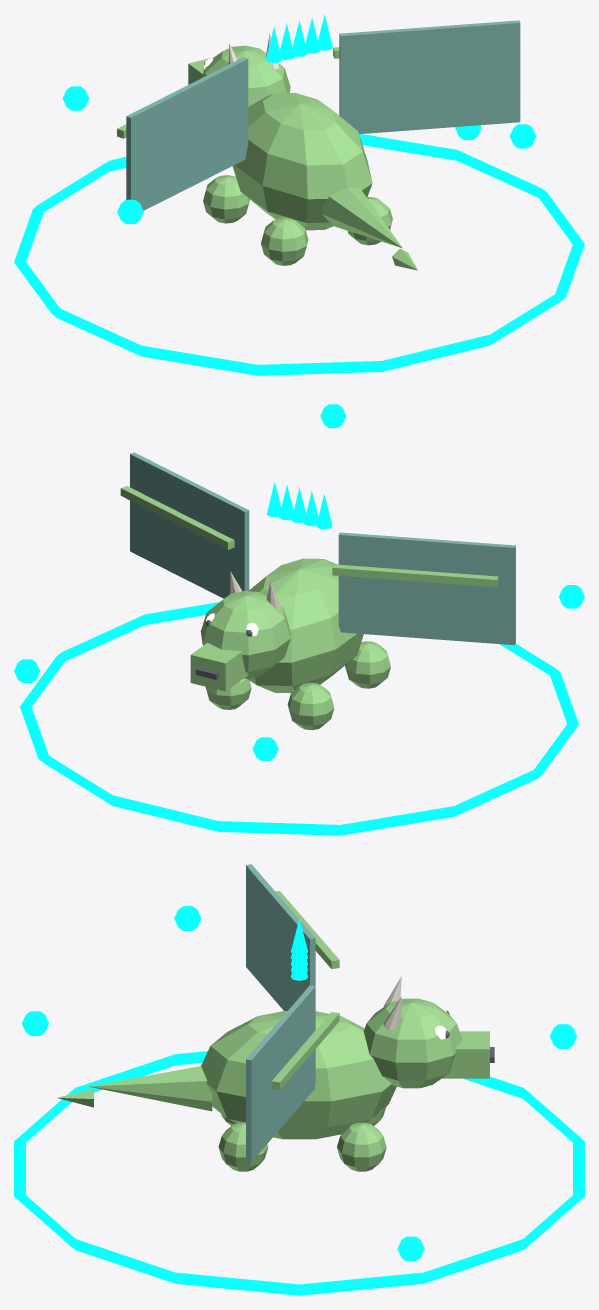
Rendered from evolved_baby_dragon.glb.
The picture shows the model from 3 angles, top to bottom: view 1: azimuth 30°, elevation 25°; view 2: azimuth 150°, elevation 25°; view 3: azimuth 270°, elevation 25°; orthographic projection. The views are drawn at different scales.
Parts seen in each view (by area): view 1: evolved_baby_dragon; view 2: evolved_baby_dragon; view 3: evolved_baby_dragon.
Part boxes in pixels (left/top/right/bottom): evolved_baby_dragon: left=14, top=14, right=584, bottom=375; evolved_baby_dragon: left=14, top=404, right=584, bottom=835; evolved_baby_dragon: left=14, top=864, right=584, bottom=1295.
Bounding box in the file's own units: 5.17 × 2.38 × 5.04.
